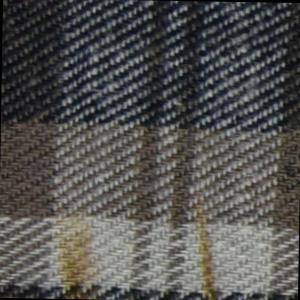Oil Stain: (48, 206, 106, 300), (188, 198, 224, 300)
